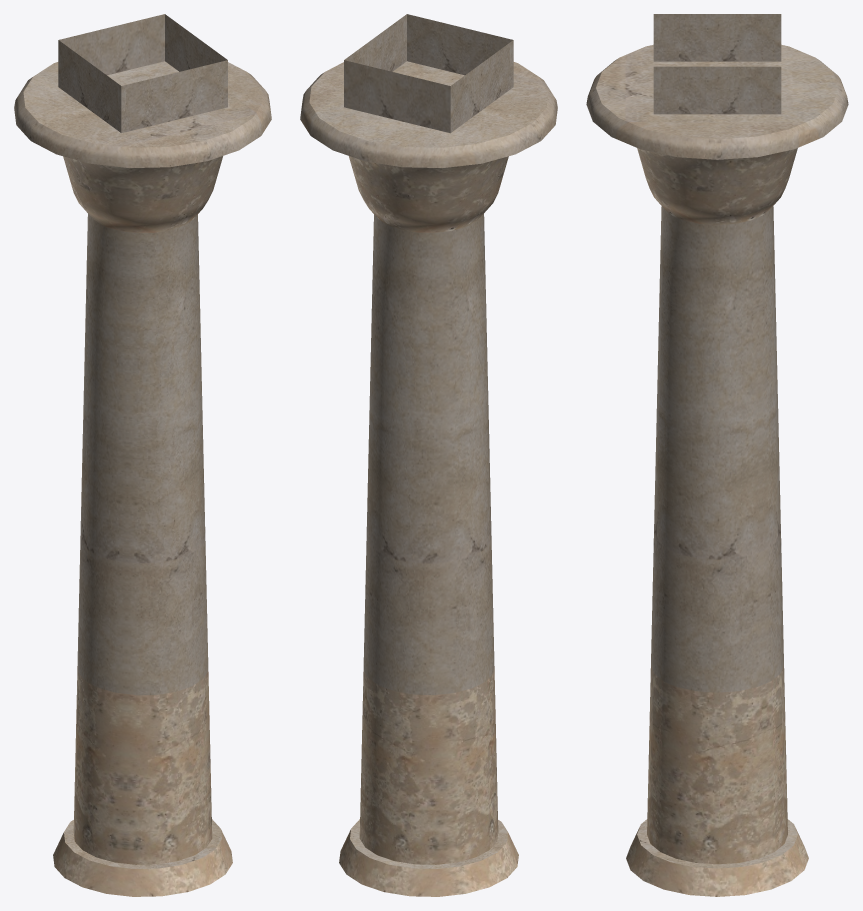
Rendered from pillarOneTexture.fbx.
3 views of the same model, side by side, from view 1: azimuth 30°, elevation 25°; view 2: azimuth 150°, elevation 25°; view 3: azimuth 270°, elevation 25° (orthographic).
Parts seen in each view (by area): view 1: polySurface3; view 2: polySurface3; view 3: polySurface3.
Part boxes in pixels (<box>): polySurface3: <box>14,14,271,896</box>; polySurface3: <box>300,14,557,896</box>; polySurface3: <box>586,14,848,896</box>.
Size of the model in its own units: 4.94 by 17 by 4.94.
